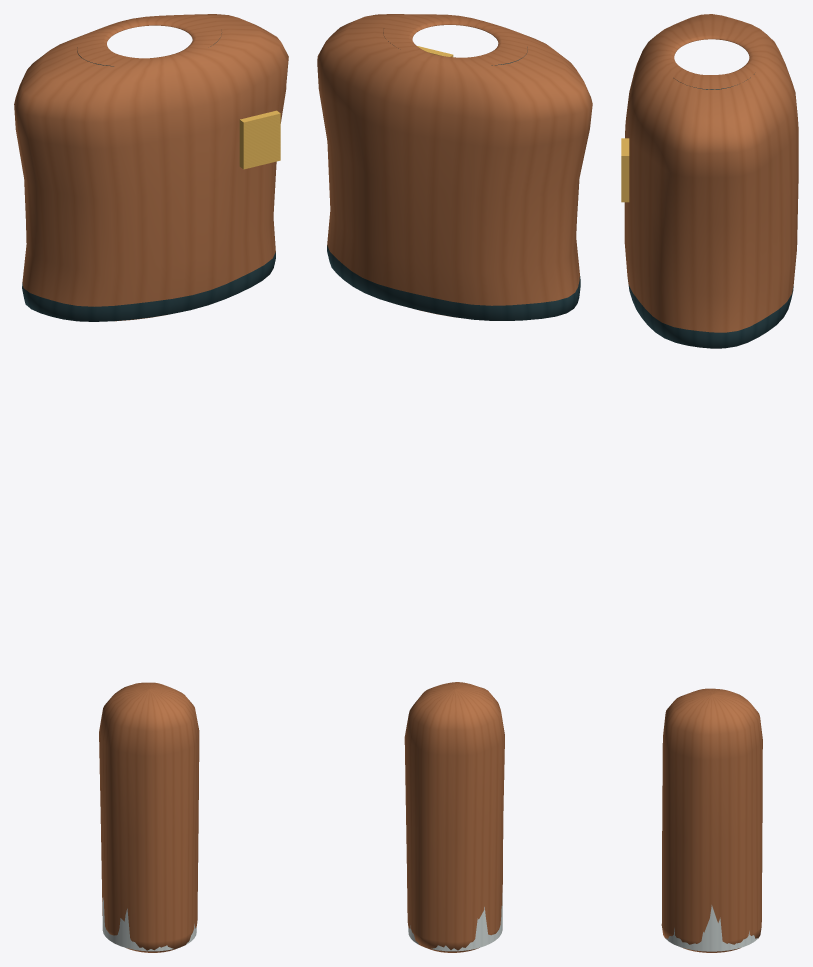
File: reference_varsity_jacket.gltf
3 renders of one model, left to right at view 1: azimuth 30°, elevation 25°; view 2: azimuth 150°, elevation 25°; view 3: azimuth 270°, elevation 25°, orthographic.
Parts seen in each view (by area): view 1: Torso, SleeveL; view 2: Torso, SleeveL; view 3: Torso, SleeveL.
Boxes of the visible parts, x1,y1,x2,y2 form: Torso: [14, 14, 288, 321]; SleeveL: [99, 682, 199, 952]; Torso: [317, 14, 592, 320]; SleeveL: [404, 682, 504, 952]; Torso: [621, 14, 798, 348]; SleeveL: [661, 688, 762, 952].
Size of the model in its own units: 0.5276 by 1.73 by 0.3156.
Materials: 4 (4 with a texture image).
